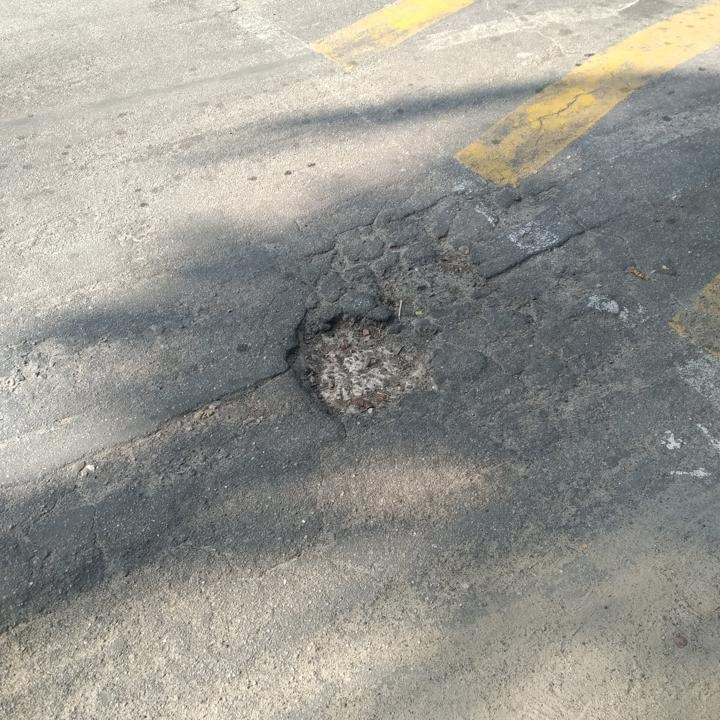pothole: (280, 303, 446, 425), (374, 247, 489, 313), (500, 181, 563, 226)
